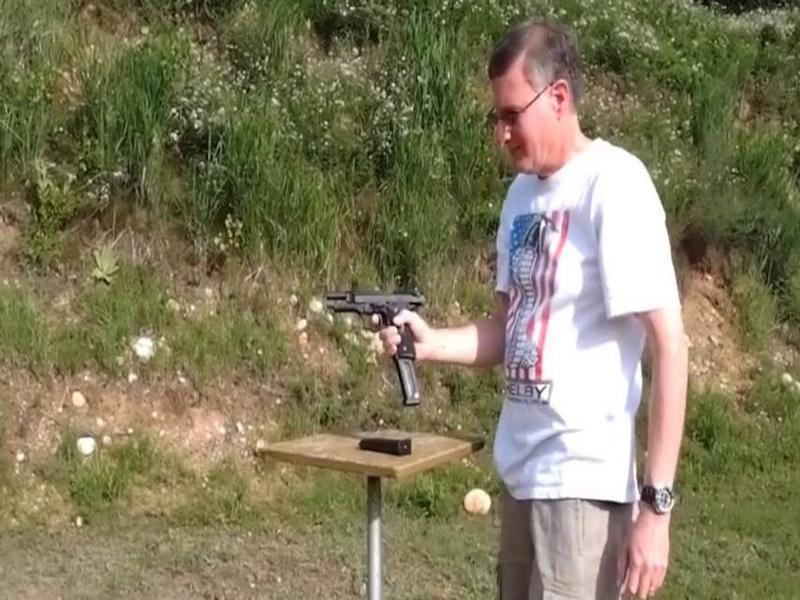Pistola: (317, 279, 432, 360)
